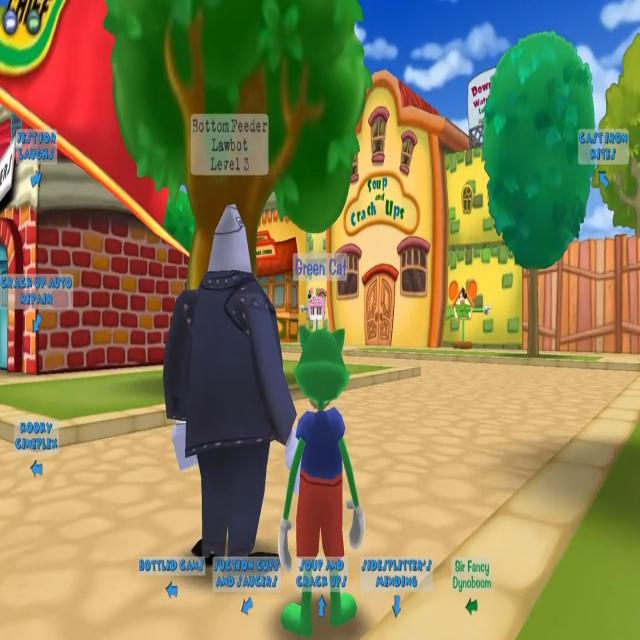bottomfeeder: (165, 101, 296, 573)
